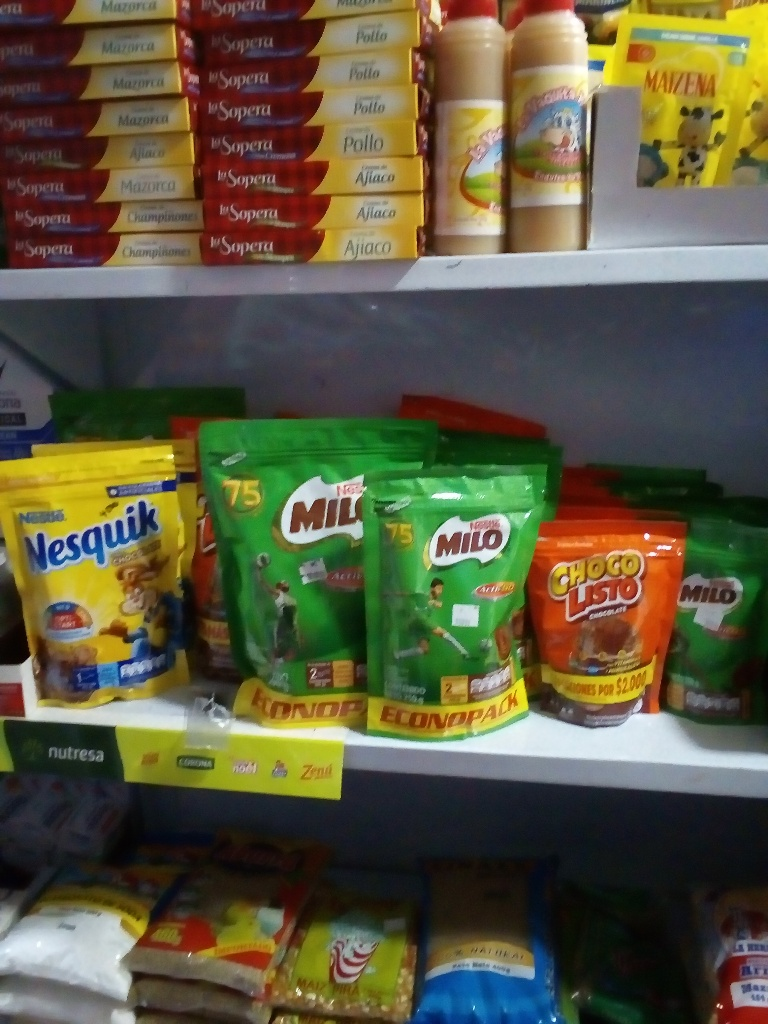COL0170203DYP10000: (669, 513, 768, 730)
COL0170203DYP50000: (197, 420, 431, 733)
